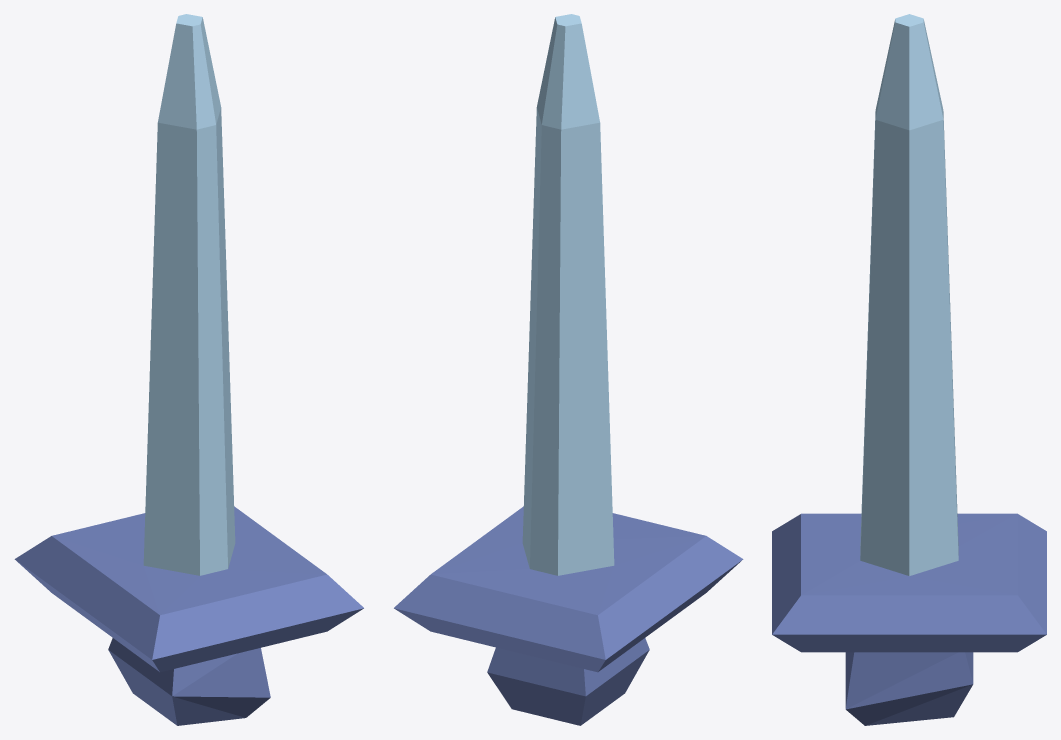
File: Dagger 1.fbx
3 views of the same model, side by side, from view 1: azimuth 30°, elevation 25°; view 2: azimuth 150°, elevation 25°; view 3: azimuth 270°, elevation 25° (orthographic).
Visible parts, largest first — view 1: Dagger 1; view 2: Dagger 1; view 3: Dagger 1.
Boxes of the visible parts, left/top/right/bottom form: Dagger 1: left=14, top=14, right=363, bottom=725; Dagger 1: left=394, top=14, right=743, bottom=725; Dagger 1: left=772, top=14, right=1046, bottom=725.
Size of the model in its own units: 34.38 by 107 by 38.62.
